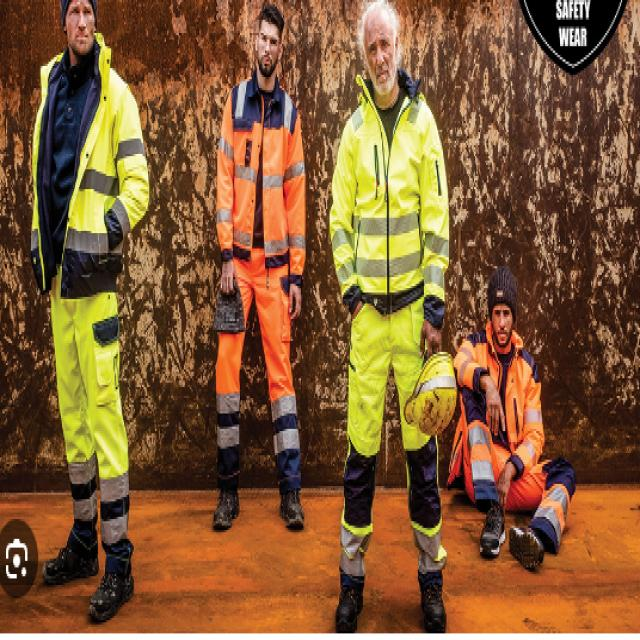shoes: (38, 530, 138, 630), (332, 557, 453, 636), (209, 458, 308, 540), (473, 487, 547, 582)
vest: (329, 61, 461, 335), (27, 27, 152, 303), (215, 68, 317, 291), (452, 316, 545, 476)
